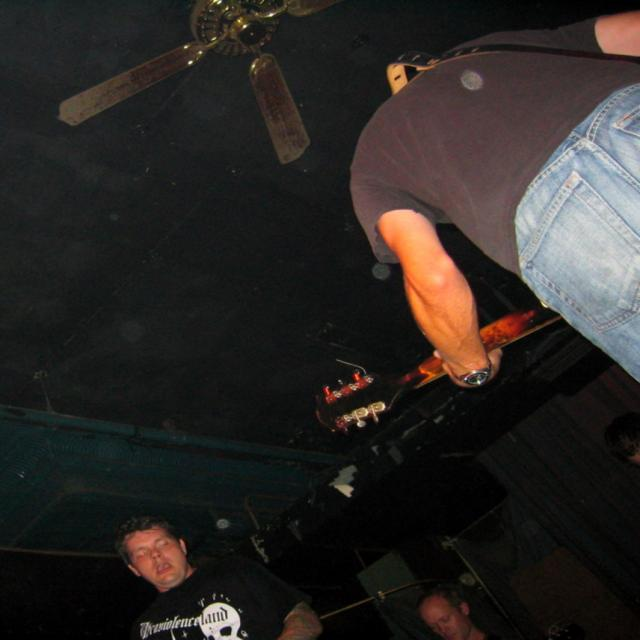Bulb: (27, 0, 413, 162)
